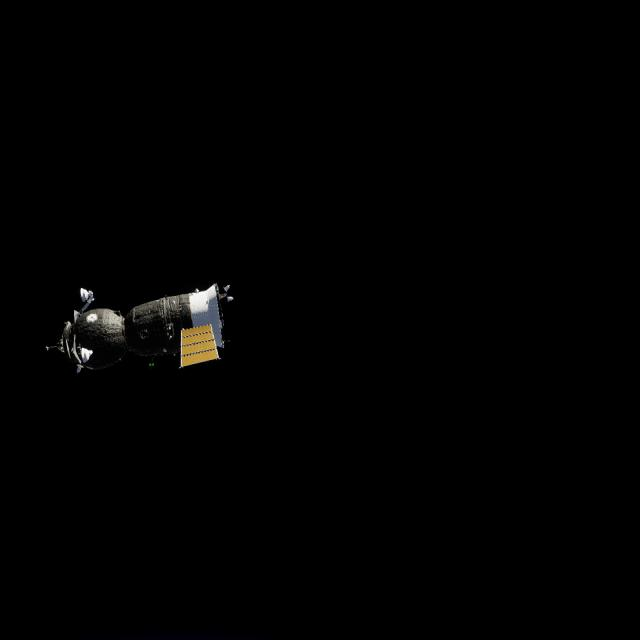Satellites revolving around earth: (46, 279, 236, 378)
